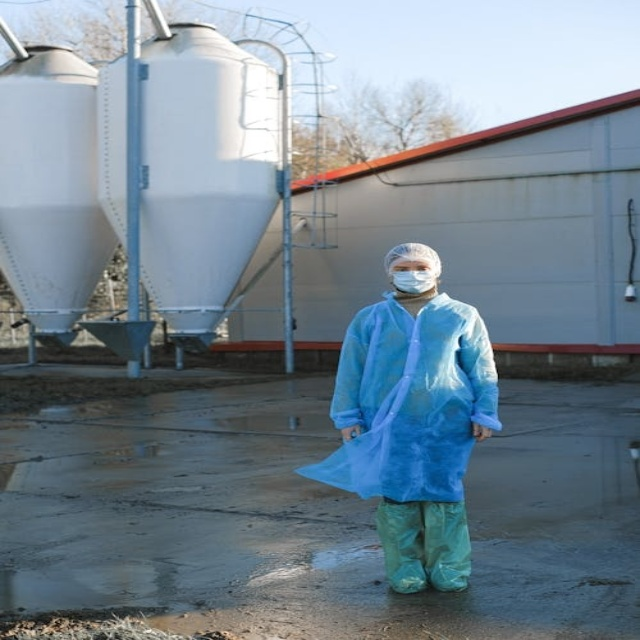Mascara: (390, 269, 435, 293)
Sin_gafas: (394, 266, 431, 272)
